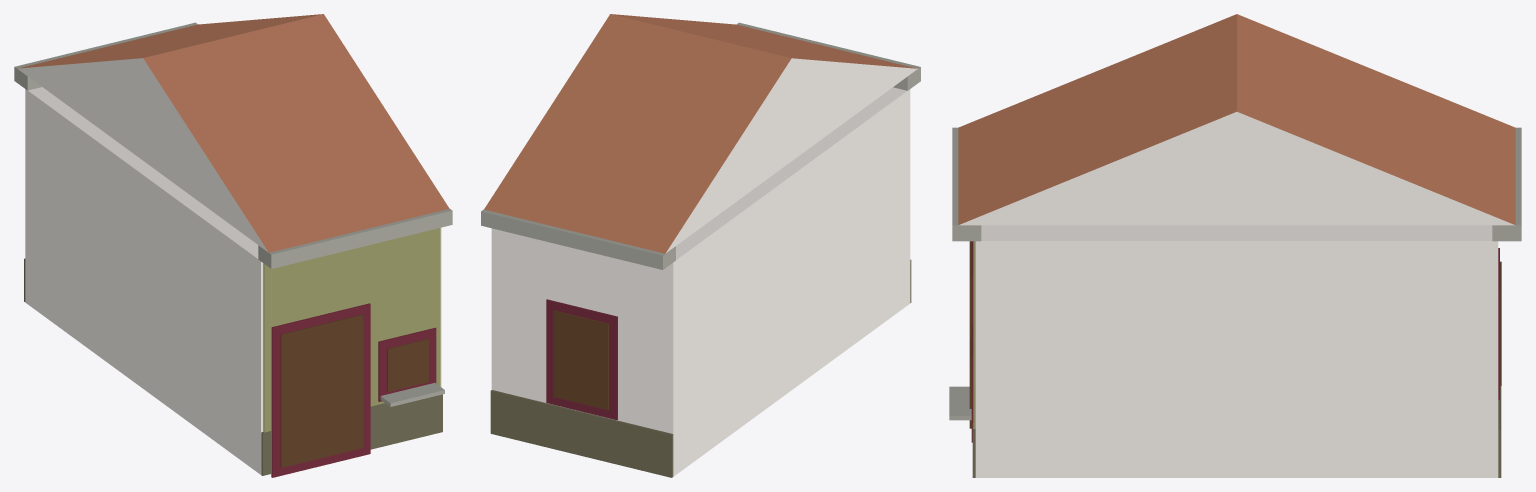
File: SM_KitCuerpo_v5_LOD0.fbx
The picture shows the model from 3 angles, left to right: view 1: azimuth 30°, elevation 25°; view 2: azimuth 150°, elevation 25°; view 3: azimuth 270°, elevation 25°; orthographic projection. The views are drawn at different scales.
Parts seen in each view (by area): view 1: SM_bloques.kit_cuerpo_v5_LOD0; view 2: SM_bloques.kit_cuerpo_v5_LOD0; view 3: SM_bloques.kit_cuerpo_v5_LOD0.
Boxes of the visible parts, left/top/right/bottom form: SM_bloques.kit_cuerpo_v5_LOD0: left=14, top=14, right=452, bottom=477; SM_bloques.kit_cuerpo_v5_LOD0: left=481, top=14, right=920, bottom=477; SM_bloques.kit_cuerpo_v5_LOD0: left=949, top=14, right=1521, bottom=477.
Size of the model in its own units: 3.99 by 7.04 by 9.85.
